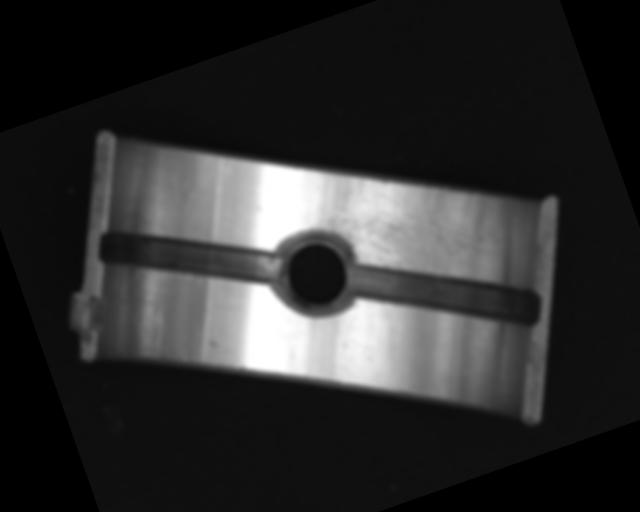bruise: (207, 336, 221, 349)
gap: (349, 216, 543, 376), (95, 181, 285, 331)
hole: (265, 220, 365, 326)
nick: (138, 302, 178, 357)
scratch: (301, 134, 504, 325)
